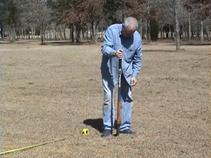sit: (119, 23, 143, 99)
